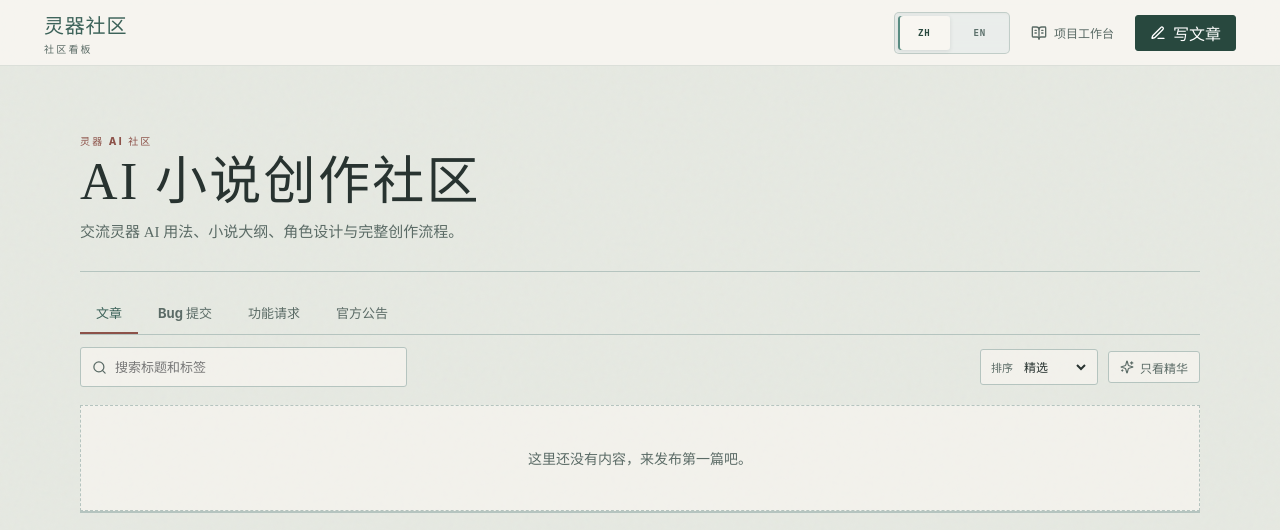
Test: CommunityPage › changes feed sorting and distinguishes search with no matches
The width and height of the screenshot is (1280, 530).
Select "最新" in the dropdown named "内容排序" at (1054, 367), box [1020,353,1089,381]
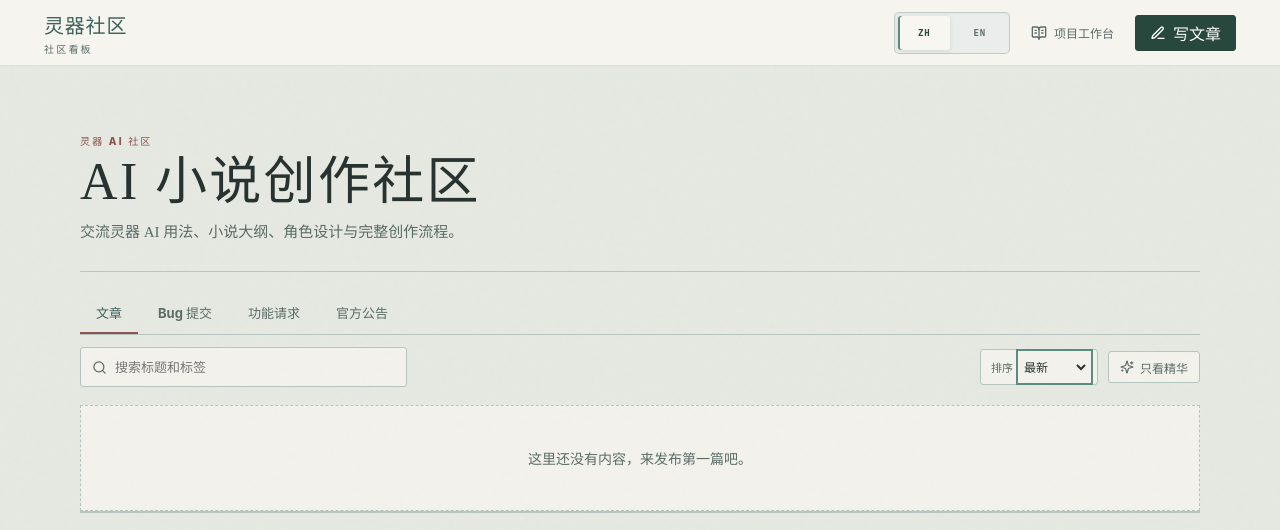
Type "不存在的内容" into the search field labelled "搜索标题和标签" at (255, 367), box [115,348,395,386]
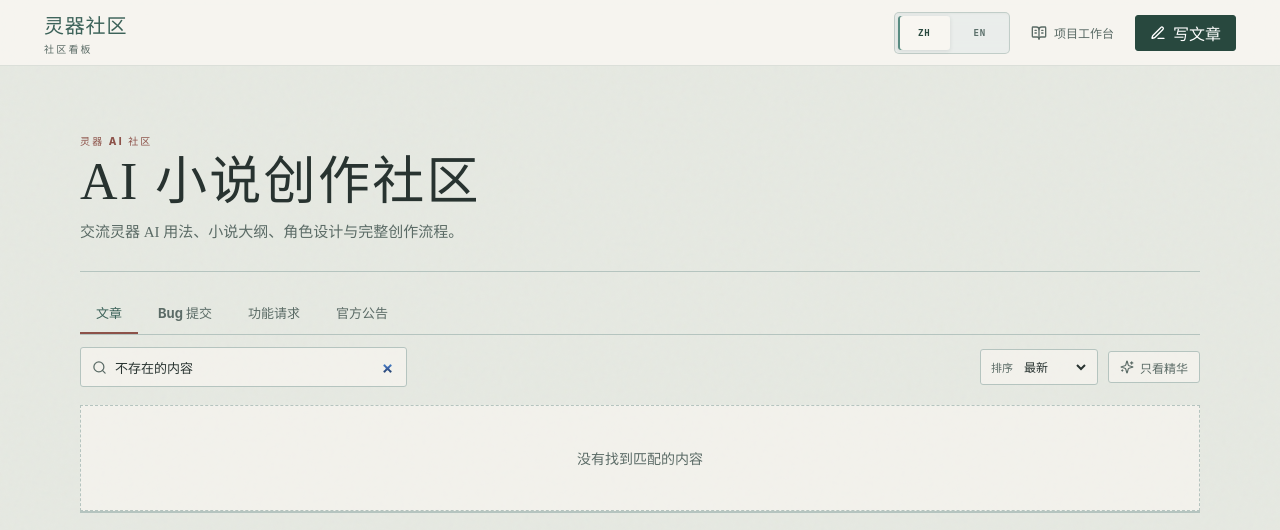
Result: the text "没有找到匹配的内容" is shown at [80,405,1200,511]
Result: the text "发布第一篇" is gone
